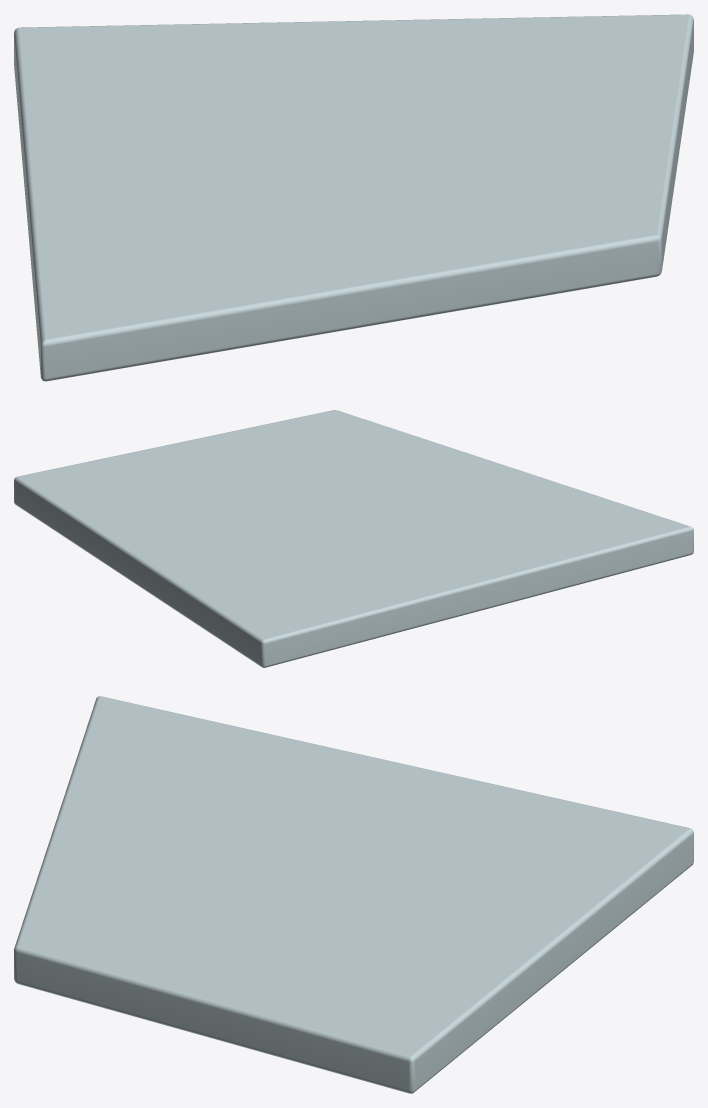
Rendered from ZH_PROP_LAB_GlassShard_05.fbx.
3 renders of one model, top to bottom at view 1: azimuth 30°, elevation 25°; view 2: azimuth 150°, elevation 25°; view 3: azimuth 270°, elevation 25°, orthographic. The views are drawn at different scales.
Visible parts, largest first — view 1: Shard | thick edges.005; view 2: Shard | thick edges.005; view 3: Shard | thick edges.005.
Boxes of the visible parts, x1,y1,x2,y2 form: Shard | thick edges.005: [14, 14, 693, 381]; Shard | thick edges.005: [14, 410, 693, 667]; Shard | thick edges.005: [14, 696, 693, 1093].
Bounding box in the file's own units: 0.0517 × 0.0025 × 0.0409.
